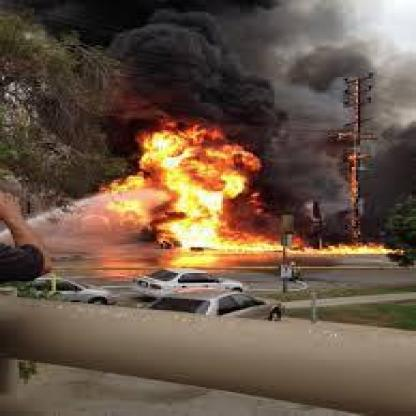fire: (122, 121, 408, 258)
smoke: (76, 3, 315, 111)
